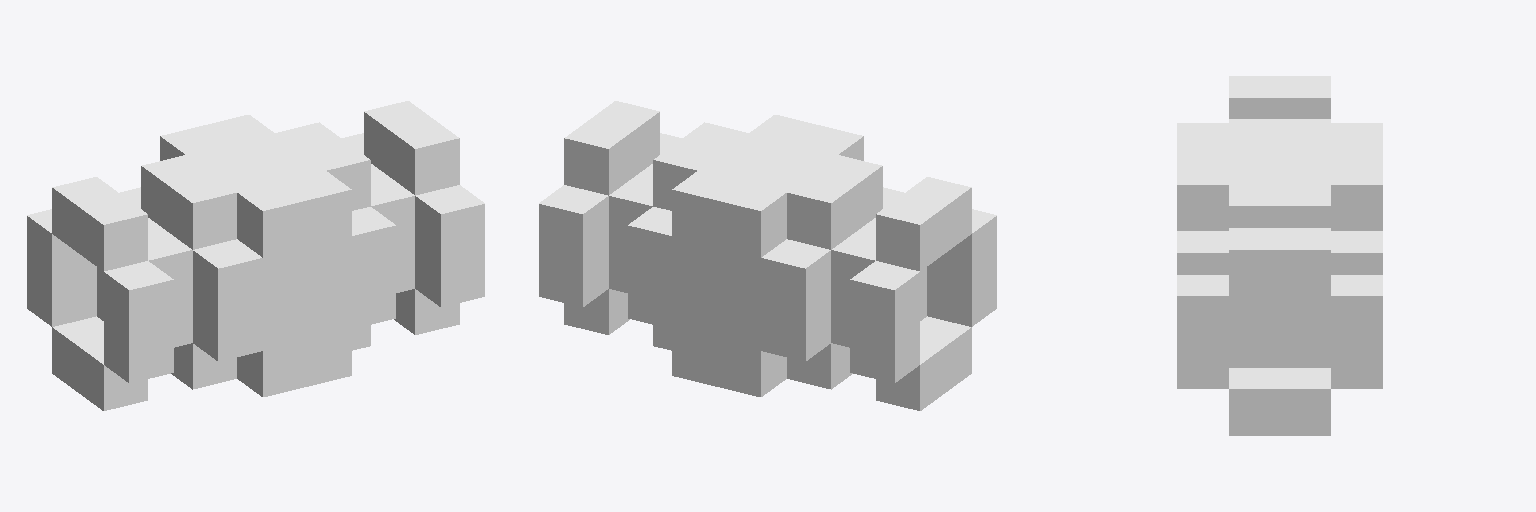
Rendered from Candy.obj.
3 renders of one model, left to right at view 1: azimuth 30°, elevation 25°; view 2: azimuth 150°, elevation 25°; view 3: azimuth 270°, elevation 25°, orthographic.
Size of the model in its own units: 8 by 4 by 4.